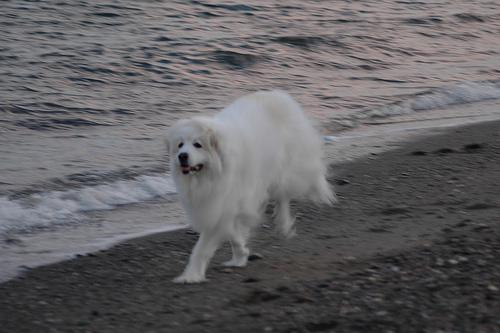dog-great_pyrenees: (160, 116, 224, 177)
